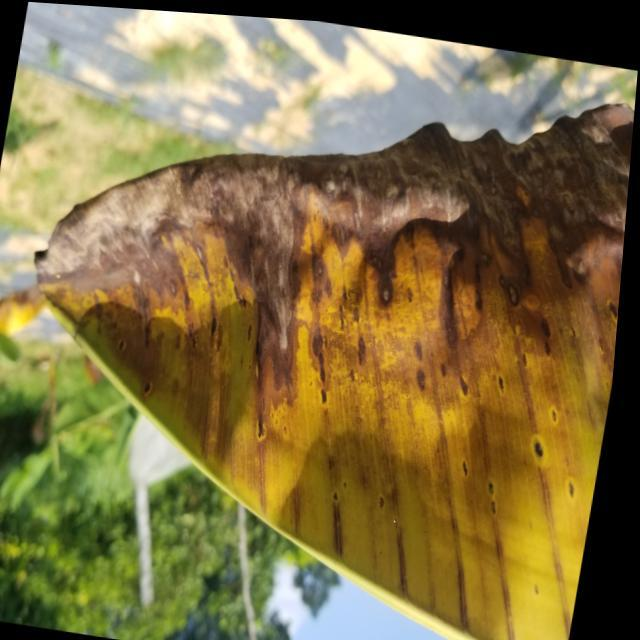Early_rust: (0, 98, 631, 628)
